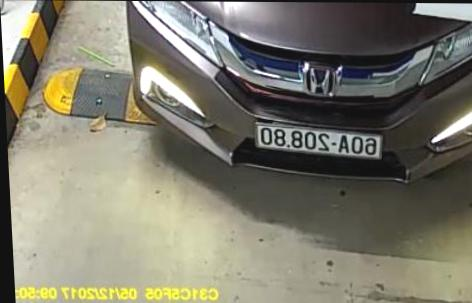License_Plate: (238, 123, 389, 166)
